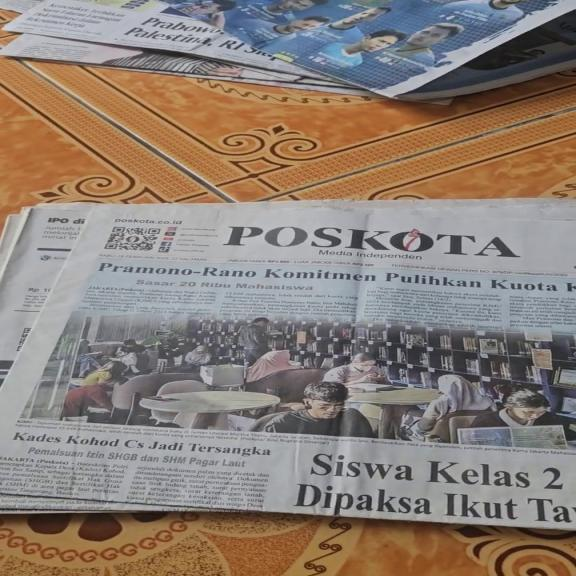Kertas: (4, 216, 566, 526), (3, 1, 358, 94)
